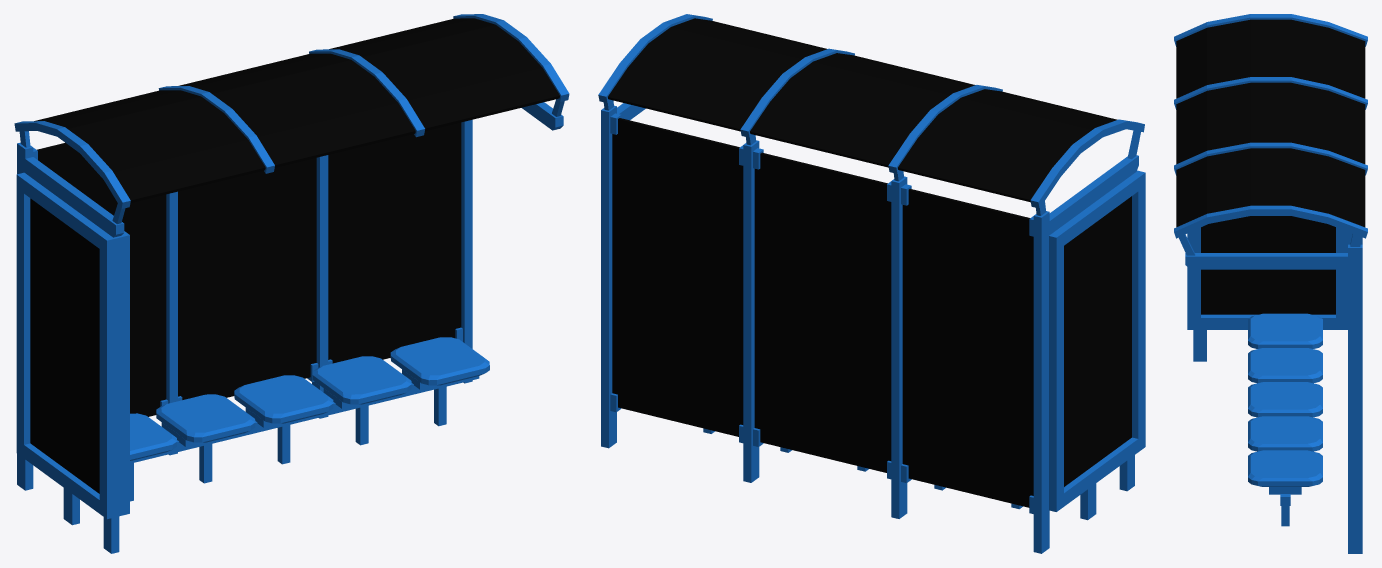
The model's file is Psp_bus_stop.fbx.
3 renders of one model, left to right at view 1: azimuth 30°, elevation 25°; view 2: azimuth 150°, elevation 25°; view 3: azimuth 270°, elevation 25°, orthographic. The views are drawn at different scales.
Parts seen in each view (by area): view 1: Cube_15; view 2: Cube_15; view 3: Cube_15.
Boxes of the visible parts, x1,y1,x2,y2 form: Cube_15: (14, 14, 569, 553); Cube_15: (598, 14, 1145, 553); Cube_15: (1174, 14, 1367, 553).
Bounding box in the file's own units: 279 × 225 × 115.
